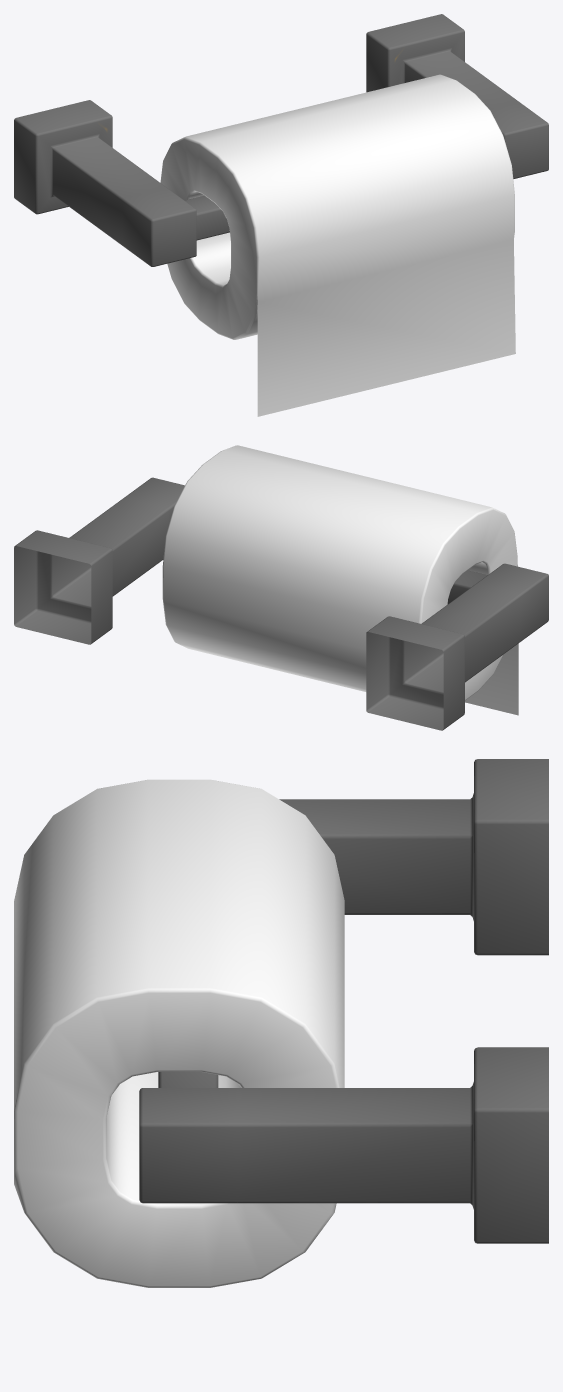
File: SM_ToiletPaper.fbx
3 renders of one model, top to bottom at view 1: azimuth 30°, elevation 25°; view 2: azimuth 150°, elevation 25°; view 3: azimuth 270°, elevation 25°, orthographic. The views are drawn at different scales.
Visible parts, largest first — view 1: ToiletPaperHolder; view 2: ToiletPaperHolder; view 3: ToiletPaperHolder.
Boxes of the visible parts, x1=… form: ToiletPaperHolder: x1=14, y1=14, x2=548, y2=416; ToiletPaperHolder: x1=14, y1=445, x2=548, y2=730; ToiletPaperHolder: x1=14, y1=759, x2=548, y2=1287.
Size of the model in its own units: 21.65 by 11.14 by 13.92.
